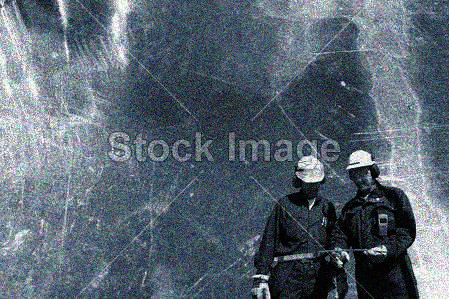helmet: (295, 155, 327, 197), (343, 149, 376, 189)
